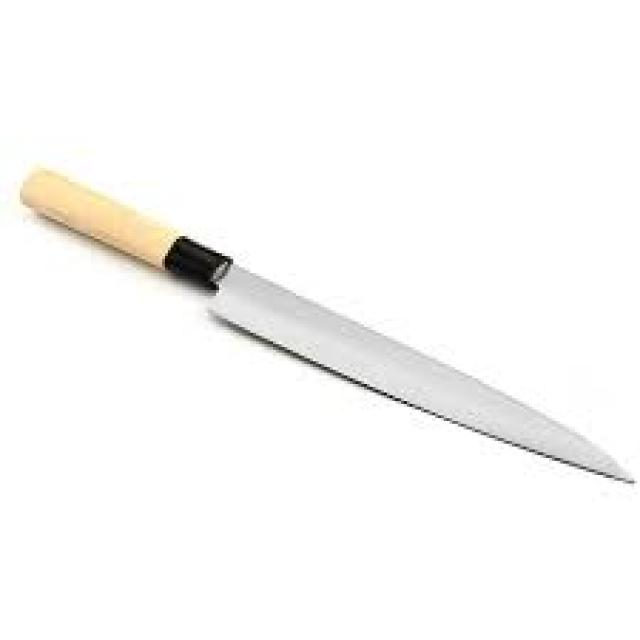Knife: (17, 168, 634, 484)
